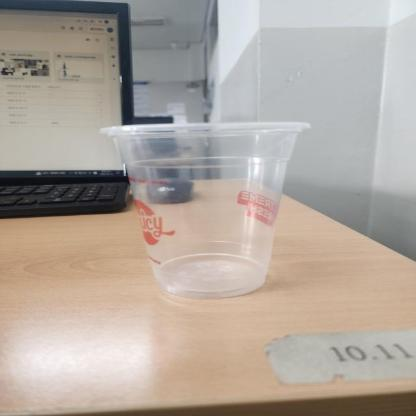Plastic Cup: (99, 120, 311, 300)
